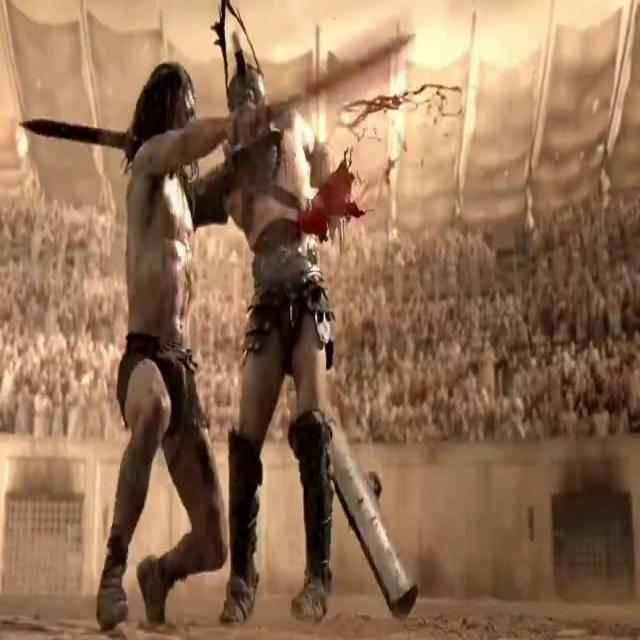flood: (278, 84, 468, 243)
